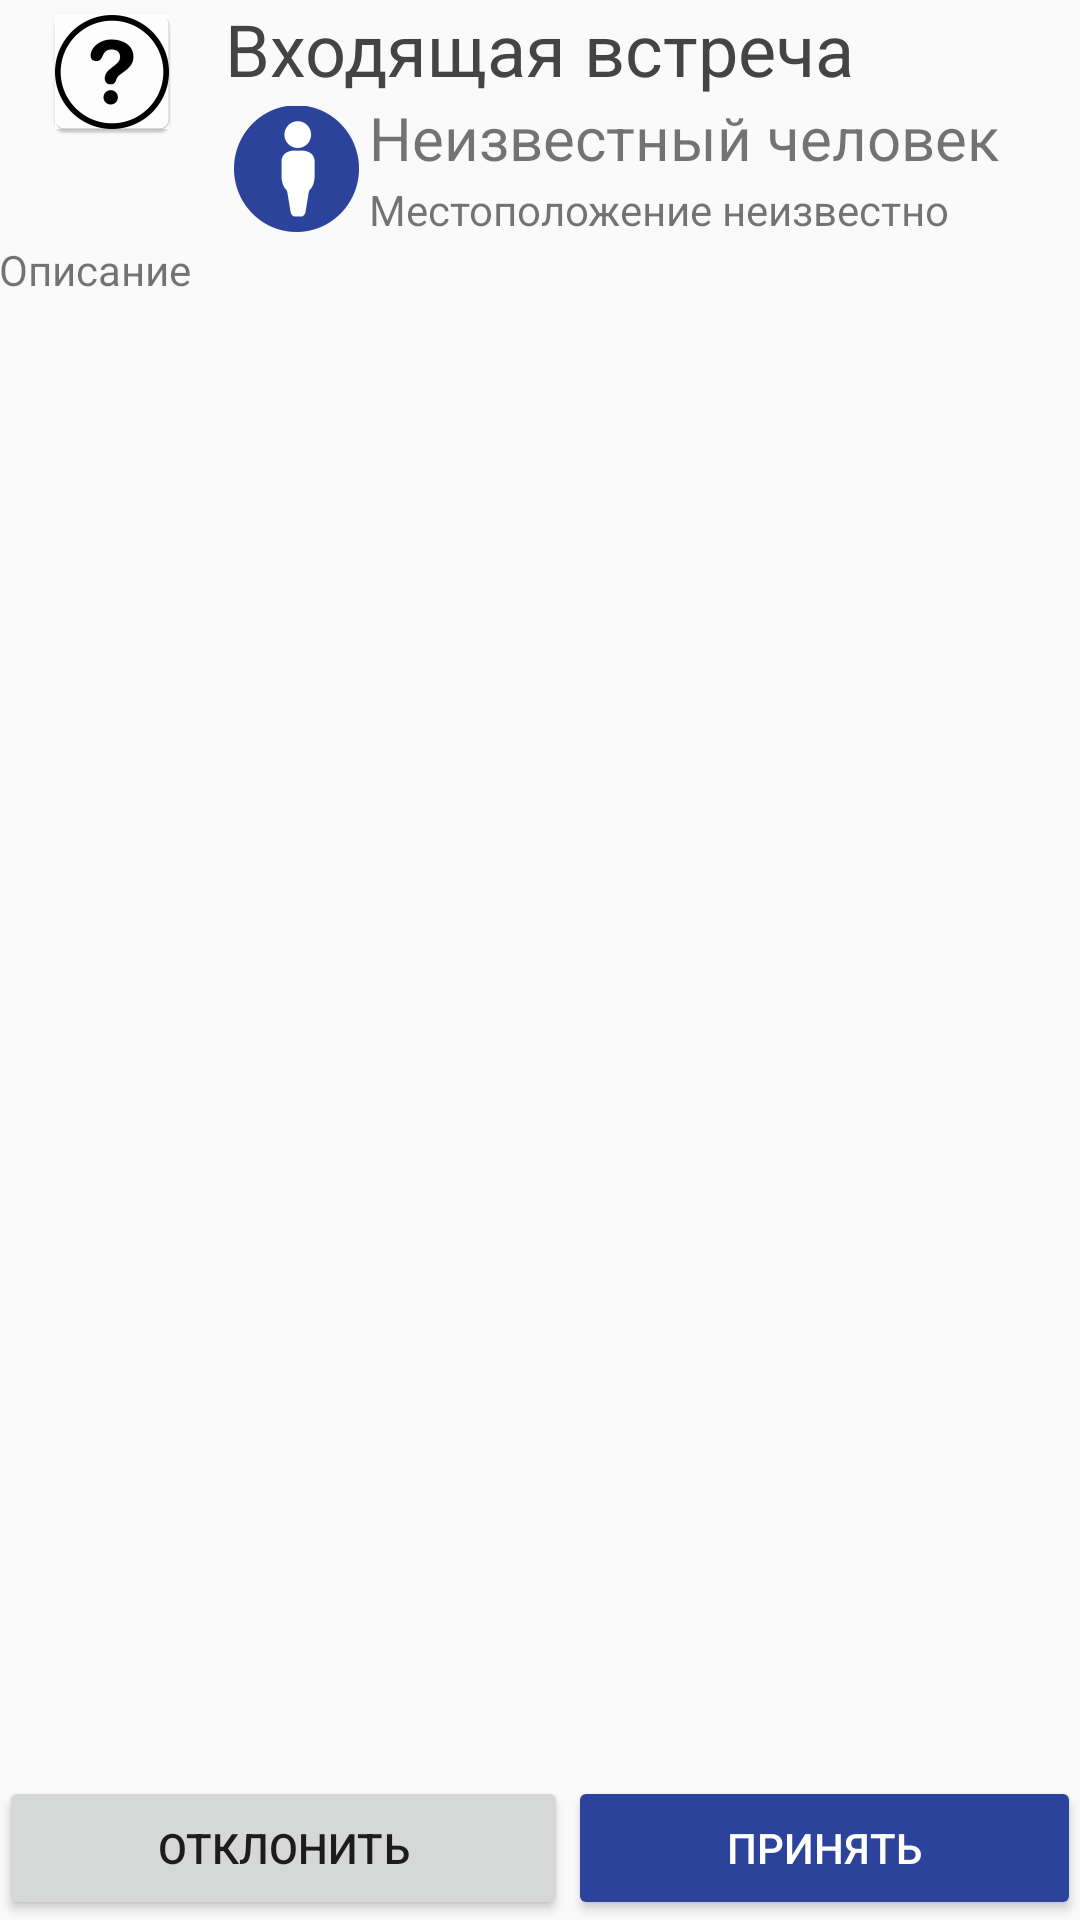

Icons on this 1080px×1920px Android screen, each with its box as (x1, y1, x2, y2):
people: (234, 106, 359, 232)
unknown: (55, 15, 170, 133)
